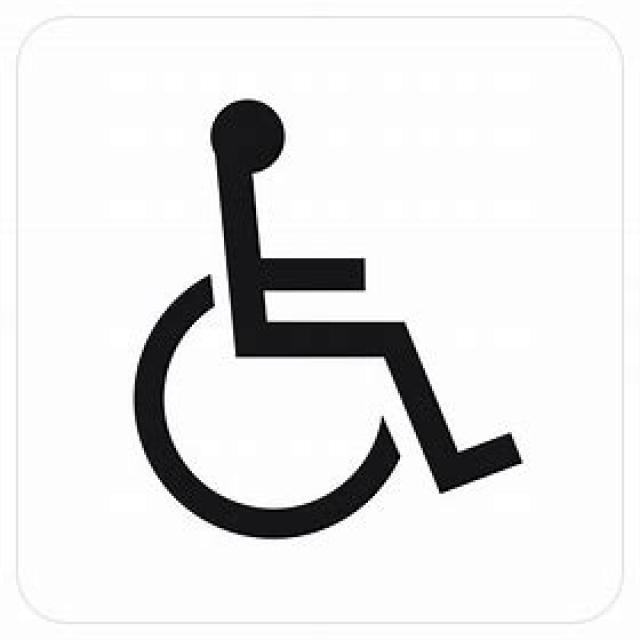ISA: (132, 95, 526, 546)
